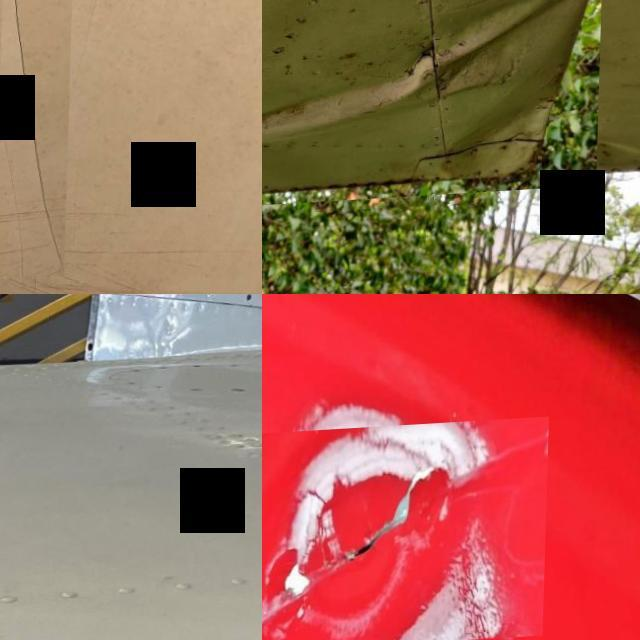Crack: (262, 422, 550, 640), (10, 0, 68, 280), (299, 54, 343, 98)
Dent: (262, 0, 604, 214), (262, 108, 309, 225)
Missing_Fastener: (243, 298, 254, 308)
